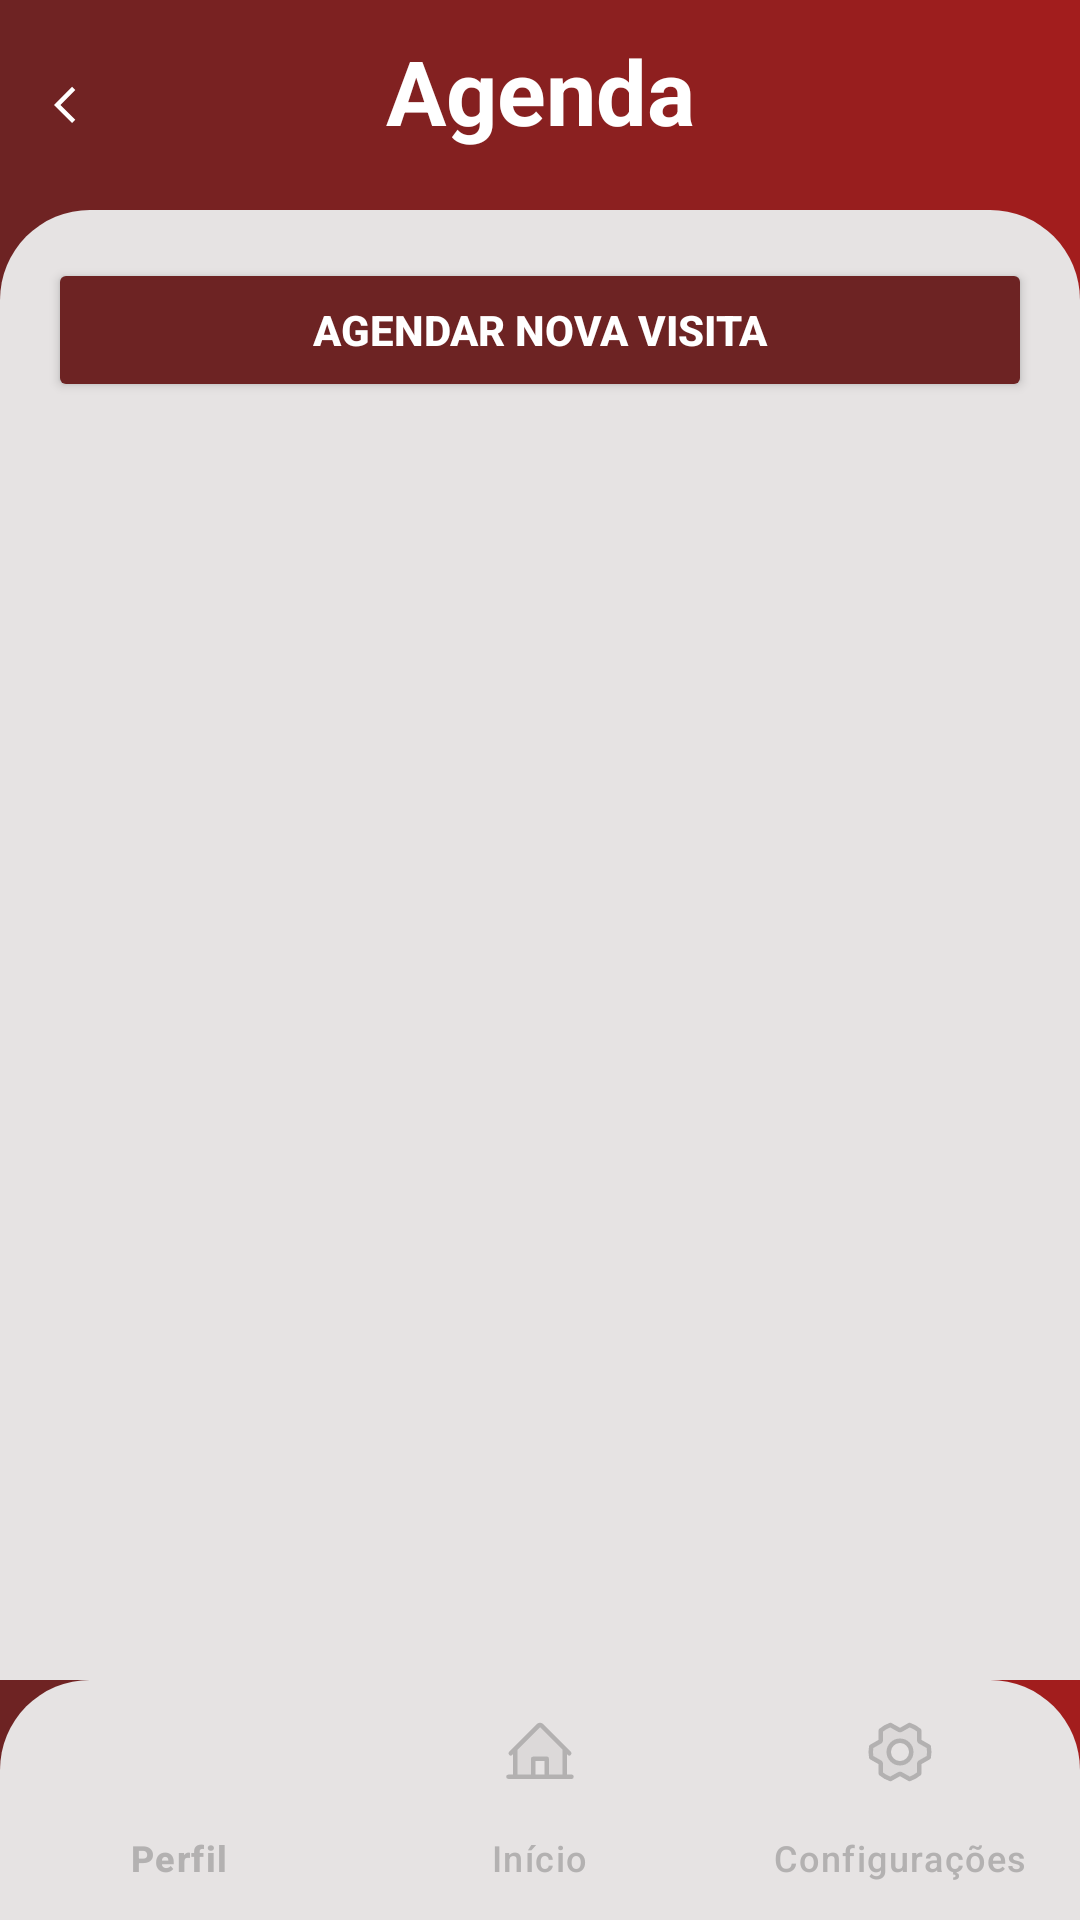

Screen size 1080w x 1920h. Icon name, then its box in pixels as (x1, y1, x2, y2):
arrow left: (54, 87, 75, 123)
